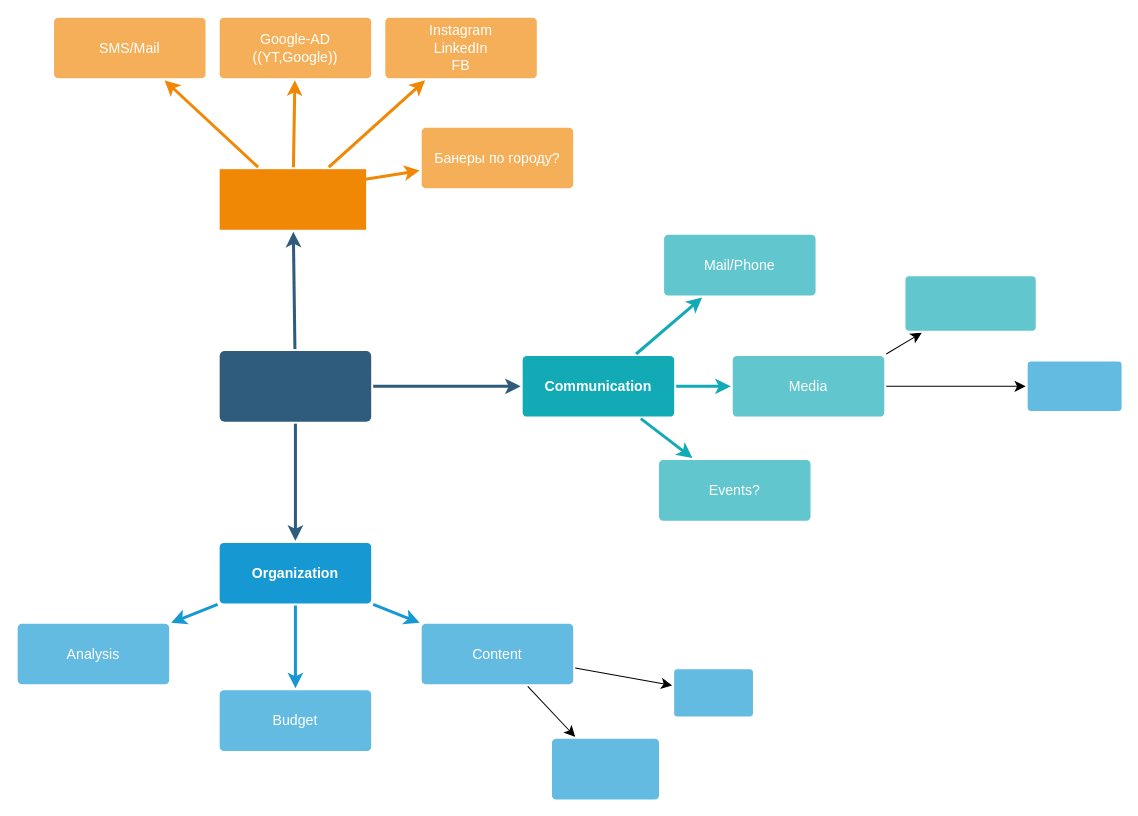
This 1138x816 diagram has some shape labels left out. The shapes that lost their labels are listed below. From the top down, each one's box as (x1, y1, x2, y2) in pixels, then its label:
(219, 169, 366, 229): Marketing
(905, 276, 1035, 330): Регулярний постинг
(219, 350, 371, 421): Advertising
(1027, 361, 1121, 411): Мемы?
(674, 669, 752, 716): Мерч
(551, 738, 659, 799): Наліпки
